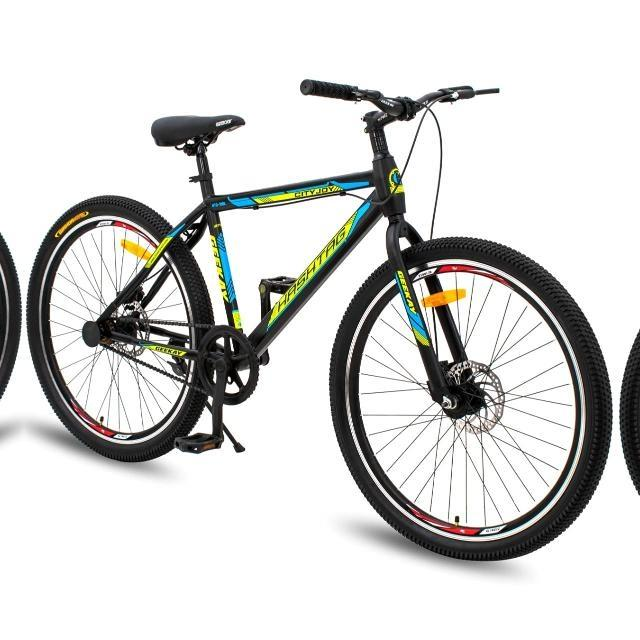obstacle: (27, 73, 615, 582), (616, 72, 640, 581), (0, 72, 19, 581)
